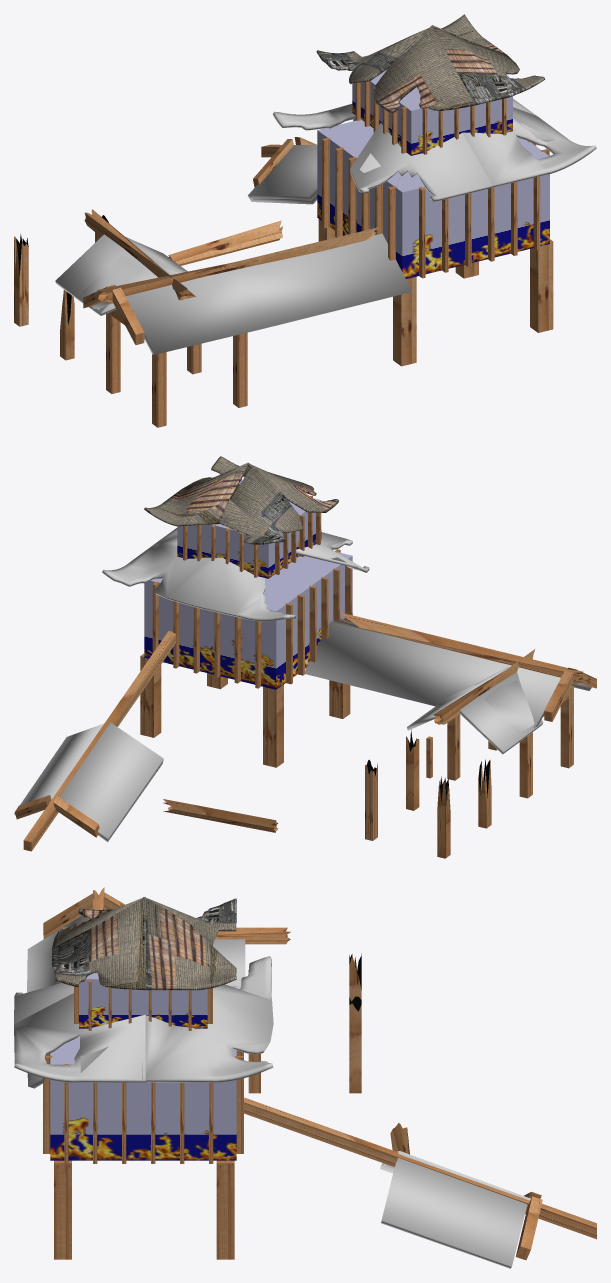
File: Yamato_TownCenter_Semidemolished.fbx
3 views of the same model, one above another, from view 1: azimuth 30°, elevation 25°; view 2: azimuth 150°, elevation 25°; view 3: azimuth 270°, elevation 25° (orthographic). The views are drawn at different scales.
Visible parts, largest first — view 1: sostreToldo, Cube, SostreGran, SostrePetit, columnesCentrals, Cube_001, columnaAltellGran_000, columnaAltellGran_002, sostreToldo_003, bigaSostre_003, bigaSostre_004, bigaSostre_001 (+9 smaller); view 2: sostreToldo, Cube, SostrePetit, SostreGran, sostreToldo_003, columnesCentrals, Cube_001, columnaAltellGran_000, bigaSostre_003, columnaAltellGran_003, sostreToldo_005, sostreToldo_002 (+13 smaller); view 3: SostreGran, SostrePetit, Cube, sostreToldo_002, Cube_001, sostreToldo_005, columnesCentrals, sostreToldo, columnaAltellGran_001, columnes_007, bigaSostre_001, columnaAltellGran_007 (+6 smaller).
Part boxes in pixels (bbox=[...]): sostreToldo: bbox=[55, 231, 412, 354]; Cube: bbox=[317, 119, 549, 278]; SostreGran: bbox=[273, 98, 596, 201]; SostrePetit: bbox=[316, 14, 544, 112]; columnesCentrals: bbox=[318, 219, 553, 366]; Cube_001: bbox=[352, 69, 512, 155]; columnaAltellGran_000: bbox=[322, 137, 396, 260]; columnaAltellGran_002: bbox=[418, 176, 540, 278]; sostreToldo_003: bbox=[248, 145, 317, 204]; bigaSostre_003: bbox=[97, 227, 378, 303]; bigaSostre_004: bbox=[168, 220, 282, 265]; bigaSostre_001: bbox=[84, 209, 195, 300]; sostreToldo: bbox=[305, 619, 591, 754]; Cube: bbox=[144, 552, 352, 689]; SostrePetit: bbox=[144, 456, 338, 544]; SostreGran: bbox=[102, 528, 369, 621]; sostreToldo_003: bbox=[59, 722, 163, 842]; columnesCentrals: bbox=[140, 653, 350, 767]; Cube_001: bbox=[177, 480, 321, 578]; columnaAltellGran_000: bbox=[285, 565, 352, 684]; bigaSostre_003: bbox=[339, 612, 583, 684]; columnaAltellGran_003: bbox=[152, 581, 261, 688]; sostreToldo_005: bbox=[23, 631, 175, 851]; sostreToldo_002: bbox=[14, 723, 104, 815]; SostreGran: bbox=[14, 956, 273, 1082]; SostrePetit: bbox=[52, 896, 236, 990]; Cube: bbox=[50, 986, 236, 1160]; sostreToldo_002: bbox=[381, 1157, 527, 1268]; Cube_001: bbox=[79, 973, 207, 1028]; sostreToldo_005: bbox=[244, 1097, 596, 1239]; columnesCentrals: bbox=[54, 1160, 234, 1259]; sostreToldo: bbox=[27, 909, 245, 1088]; columnaAltellGran_001: bbox=[64, 1064, 213, 1163]; columnes_007: bbox=[349, 996, 361, 1093]; bigaSostre_001: bbox=[62, 927, 290, 944]; columnaAltellGran_007: bbox=[88, 979, 191, 1030].
Size of the model in its own units: 12.47 by 7.7 by 12.51.
